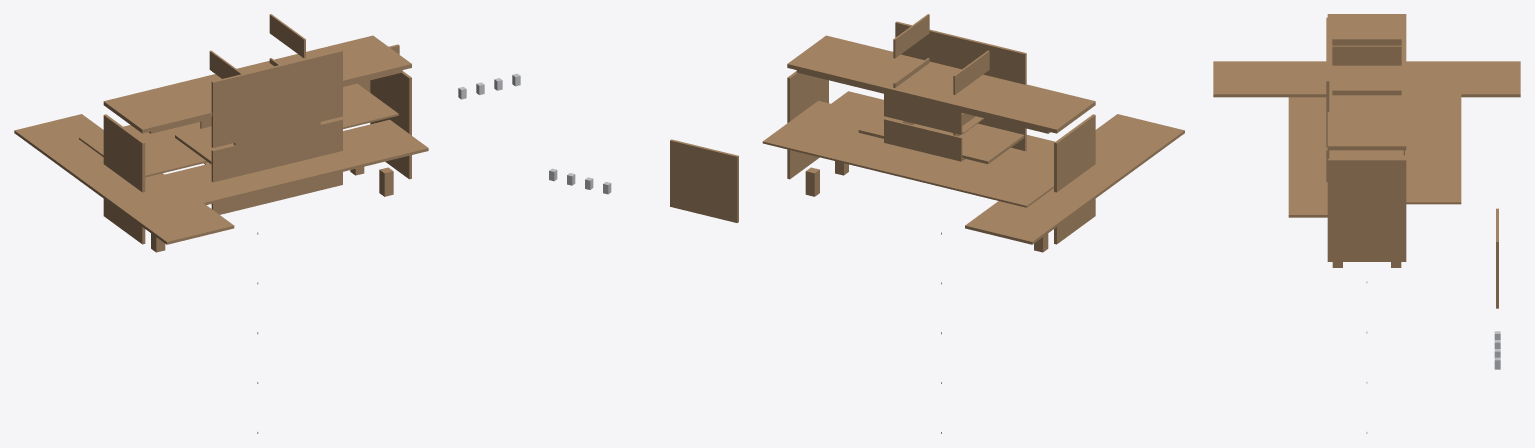
Rendered from Oakley_sideboard.glb.
The picture shows the model from 3 angles, left to right: view 1: azimuth 30°, elevation 25°; view 2: azimuth 150°, elevation 25°; view 3: azimuth 270°, elevation 25°; orthographic projection.
Visible parts, largest first — view 1: carcass.bottom, door_2, shelf.drawer, top, door_1, carcass.back, carcass.side_1, carcass.side_2, drawer.front_2, divider.drawer_2, drawer.front_3, shelf.adjustable_1 (+4 smaller); view 2: carcass.back, top, carcass.bottom, divider.centre, door_2, carcass.side_1, shelf.adjustable_1, shelf.adjustable_2, carcass.side_2, drawer.back_2, drawer.back_3, shelf.drawer (+3 smaller); view 3: top, carcass.side_2, carcass.back, carcass.bottom, shelf.drawer, drawer.side_6, shelf.adjustable_1, shelf.adjustable_2, drawer.side_5, door_2, drawer.side_4, divider.centre.
Part boxes in pixels (x1,y1,x2,y2): carcass.bottom: [14, 114, 234, 244]; door_2: [211, 50, 342, 147]; shelf.drawer: [165, 119, 428, 204]; top: [103, 35, 411, 133]; door_1: [211, 118, 342, 214]; carcass.back: [79, 83, 398, 177]; carcass.side_1: [103, 114, 145, 244]; carcass.side_2: [370, 71, 411, 179]; drawer.front_2: [233, 112, 320, 159]; divider.drawer_2: [244, 113, 311, 158]; drawer.front_3: [235, 81, 320, 129]; shelf.adjustable_1: [175, 60, 297, 111]; carcass.back: [762, 100, 1053, 207]; top: [787, 35, 1095, 133]; carcass.bottom: [965, 114, 1184, 244]; divider.centre: [670, 139, 738, 222]; door_2: [895, 21, 1026, 84]; carcass.side_1: [1054, 114, 1095, 244]; shelf.adjustable_1: [863, 60, 1023, 111]; shelf.adjustable_2: [858, 111, 1024, 164]; carcass.side_2: [787, 71, 828, 179]; drawer.back_2: [884, 118, 962, 161]; drawer.back_3: [884, 93, 962, 134]; shelf.drawer: [831, 91, 1054, 157]; top: [1327, 14, 1406, 150]; carcass.side_2: [1327, 159, 1406, 261]; carcass.back: [1403, 72, 1461, 204]; carcass.bottom: [1213, 61, 1520, 97]; shelf.drawer: [1288, 97, 1330, 217]; drawer.side_6: [1332, 45, 1401, 65]; shelf.adjustable_1: [1330, 48, 1403, 111]; shelf.adjustable_2: [1330, 150, 1403, 158]; drawer.side_5: [1332, 38, 1401, 45]; door_2: [1326, 17, 1329, 147]; drawer.side_4: [1332, 90, 1401, 95]; divider.centre: [1496, 208, 1498, 308].
Size of the model in its own units: 3.29 by 2.55 by 1.76.
